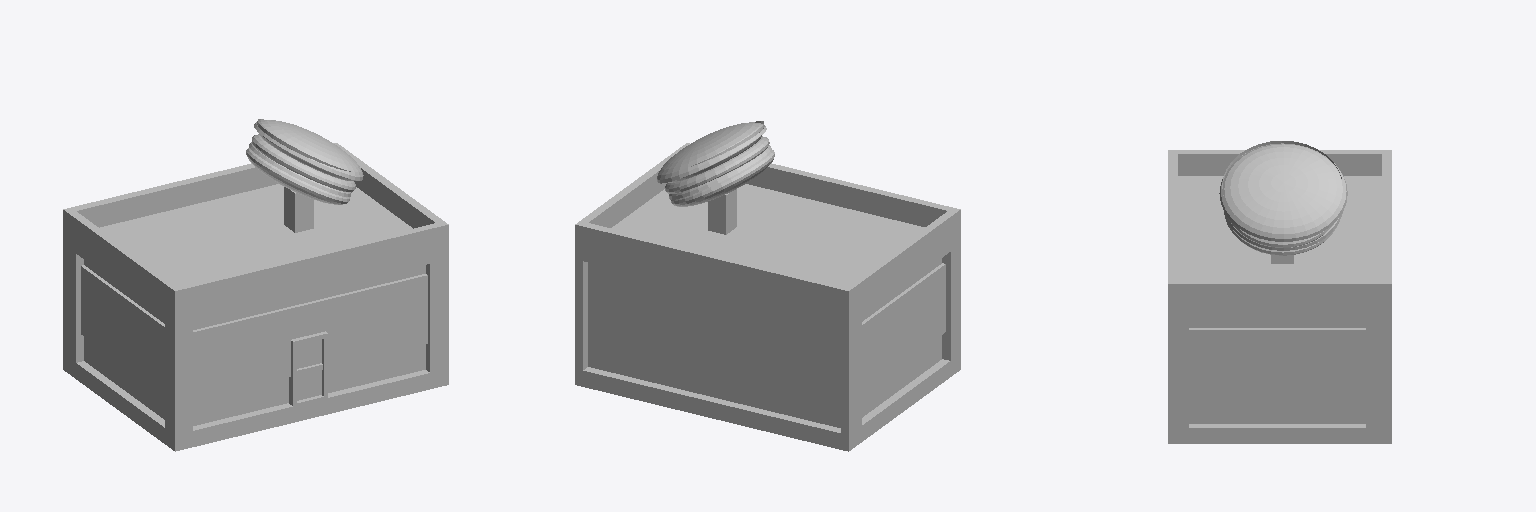
Rendered from burgers3.mtl.obj.
The picture shows the model from 3 angles: view 1: azimuth 30°, elevation 25°; view 2: azimuth 150°, elevation 25°; view 3: azimuth 270°, elevation 25°; orthographic projection.
Bounding box in the file's own units: 6.96 × 5.9 × 4.93.